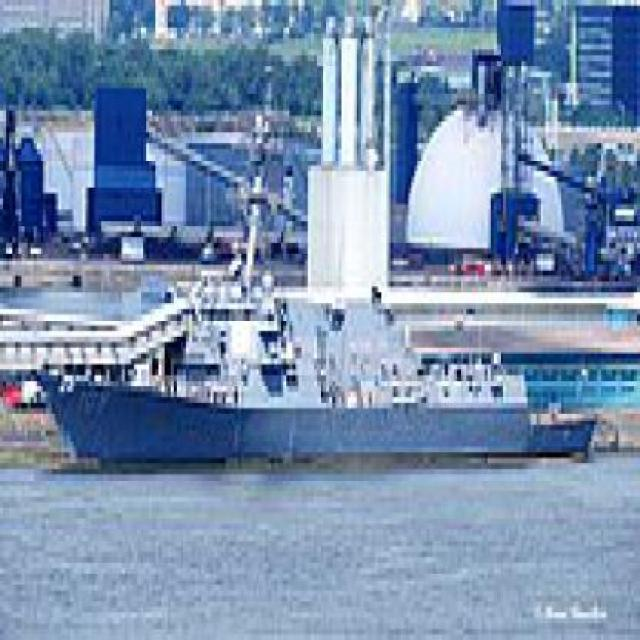warship2: (37, 249, 608, 481)
